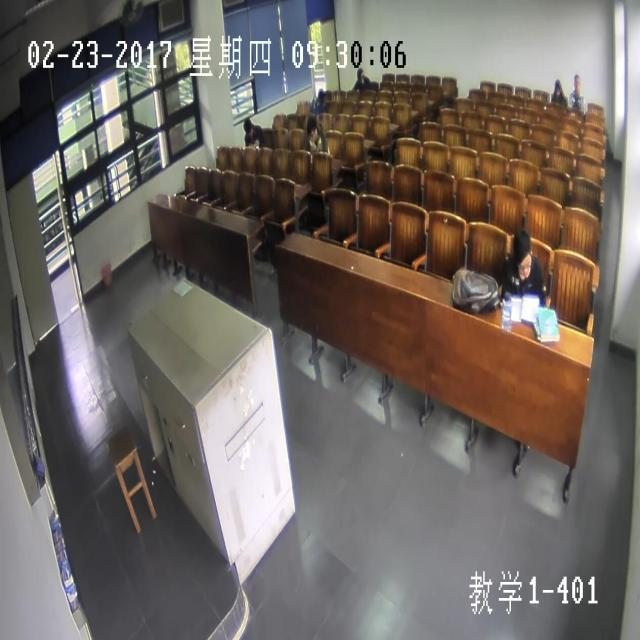person: (512, 230, 532, 277), (306, 116, 318, 141), (572, 73, 582, 96), (242, 118, 253, 137), (552, 80, 563, 98), (317, 90, 326, 106), (356, 68, 365, 84)
